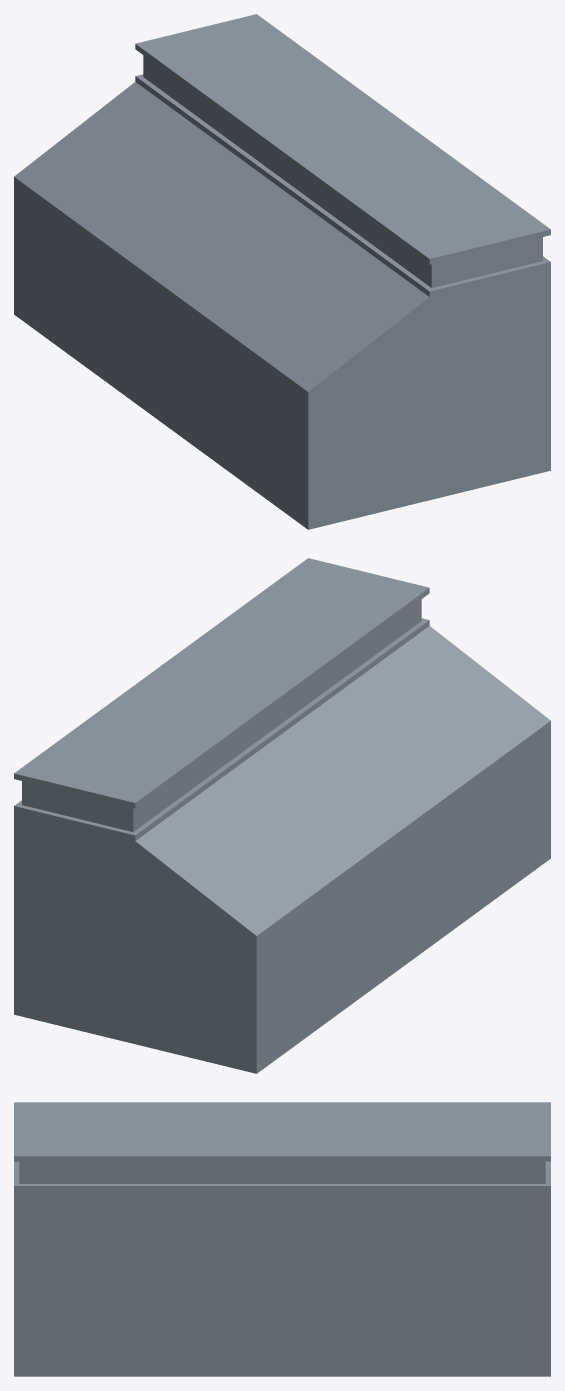
Rendered from refrigerator_big.glb.
3 renders of one model, top to bottom at view 1: azimuth 30°, elevation 25°; view 2: azimuth 150°, elevation 25°; view 3: azimuth 270°, elevation 25°, orthographic. The views are drawn at different scales.
Parts seen in each view (by area): view 1: refrigerator big; view 2: refrigerator big; view 3: refrigerator big.
Boxes of the visible parts, <box> form: refrigerator big: <box>14,14,550,529</box>; refrigerator big: <box>14,558,550,1073</box>; refrigerator big: <box>14,1102,550,1376</box>.
Bounding box in the file's own units: 2 × 1.9 × 4.2.
Materials: 1 (1 with a texture image).
